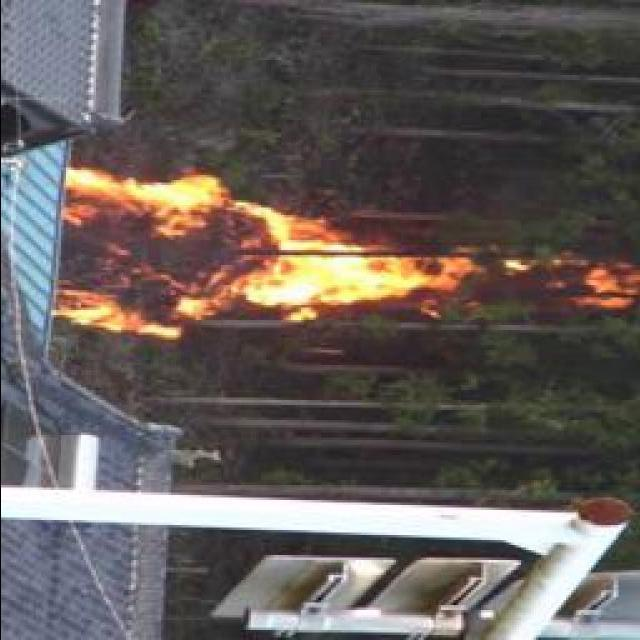Fire: (54, 171, 460, 344), (549, 249, 634, 319)
